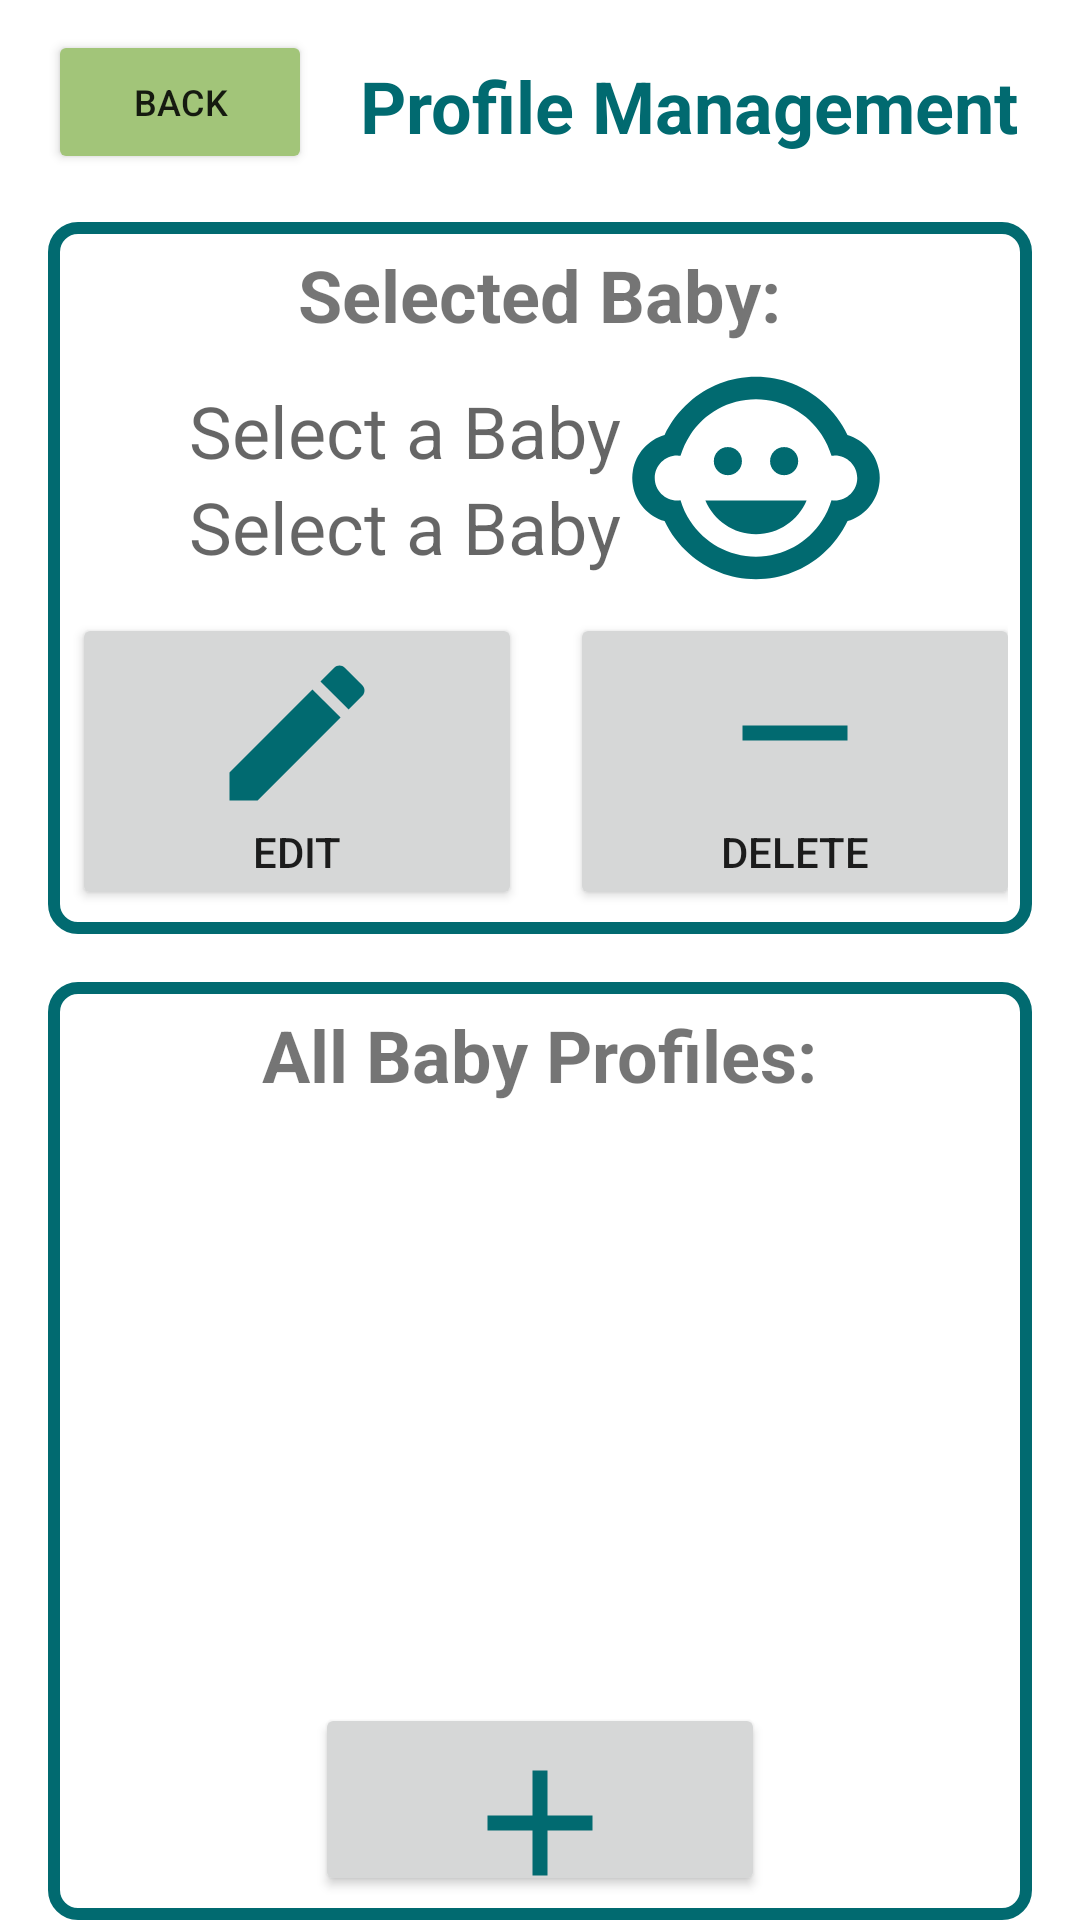

Icons on this 1080 × 1920 Android screen, each with the point to tap as [x,y]:
child: [756,478]
